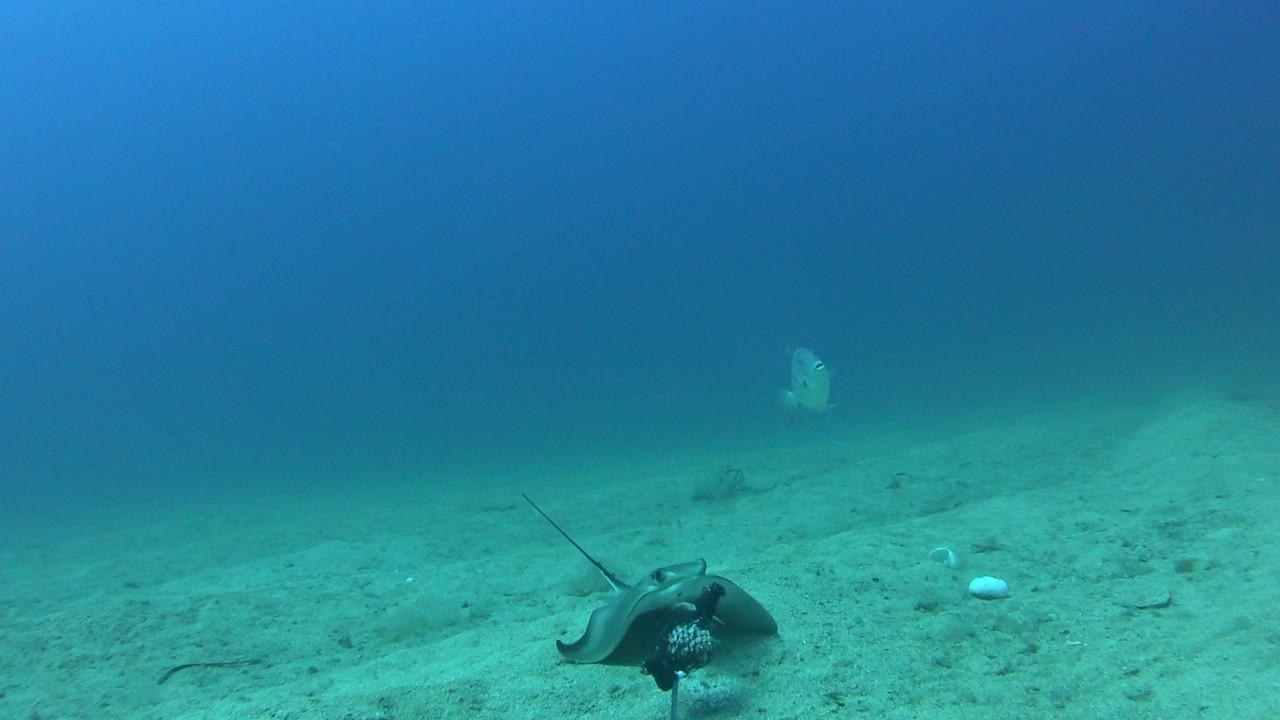balistes: (773, 339, 839, 428)
myliobatis: (501, 492, 781, 652)
